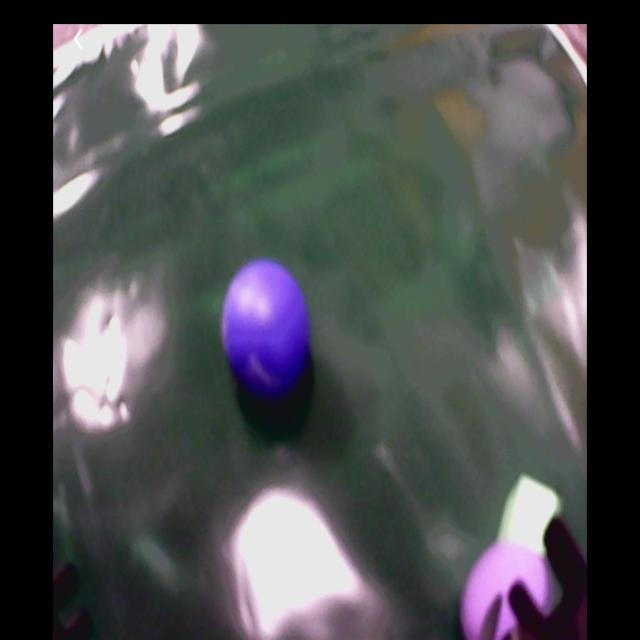ball: (224, 260, 310, 402), (462, 547, 551, 640)
